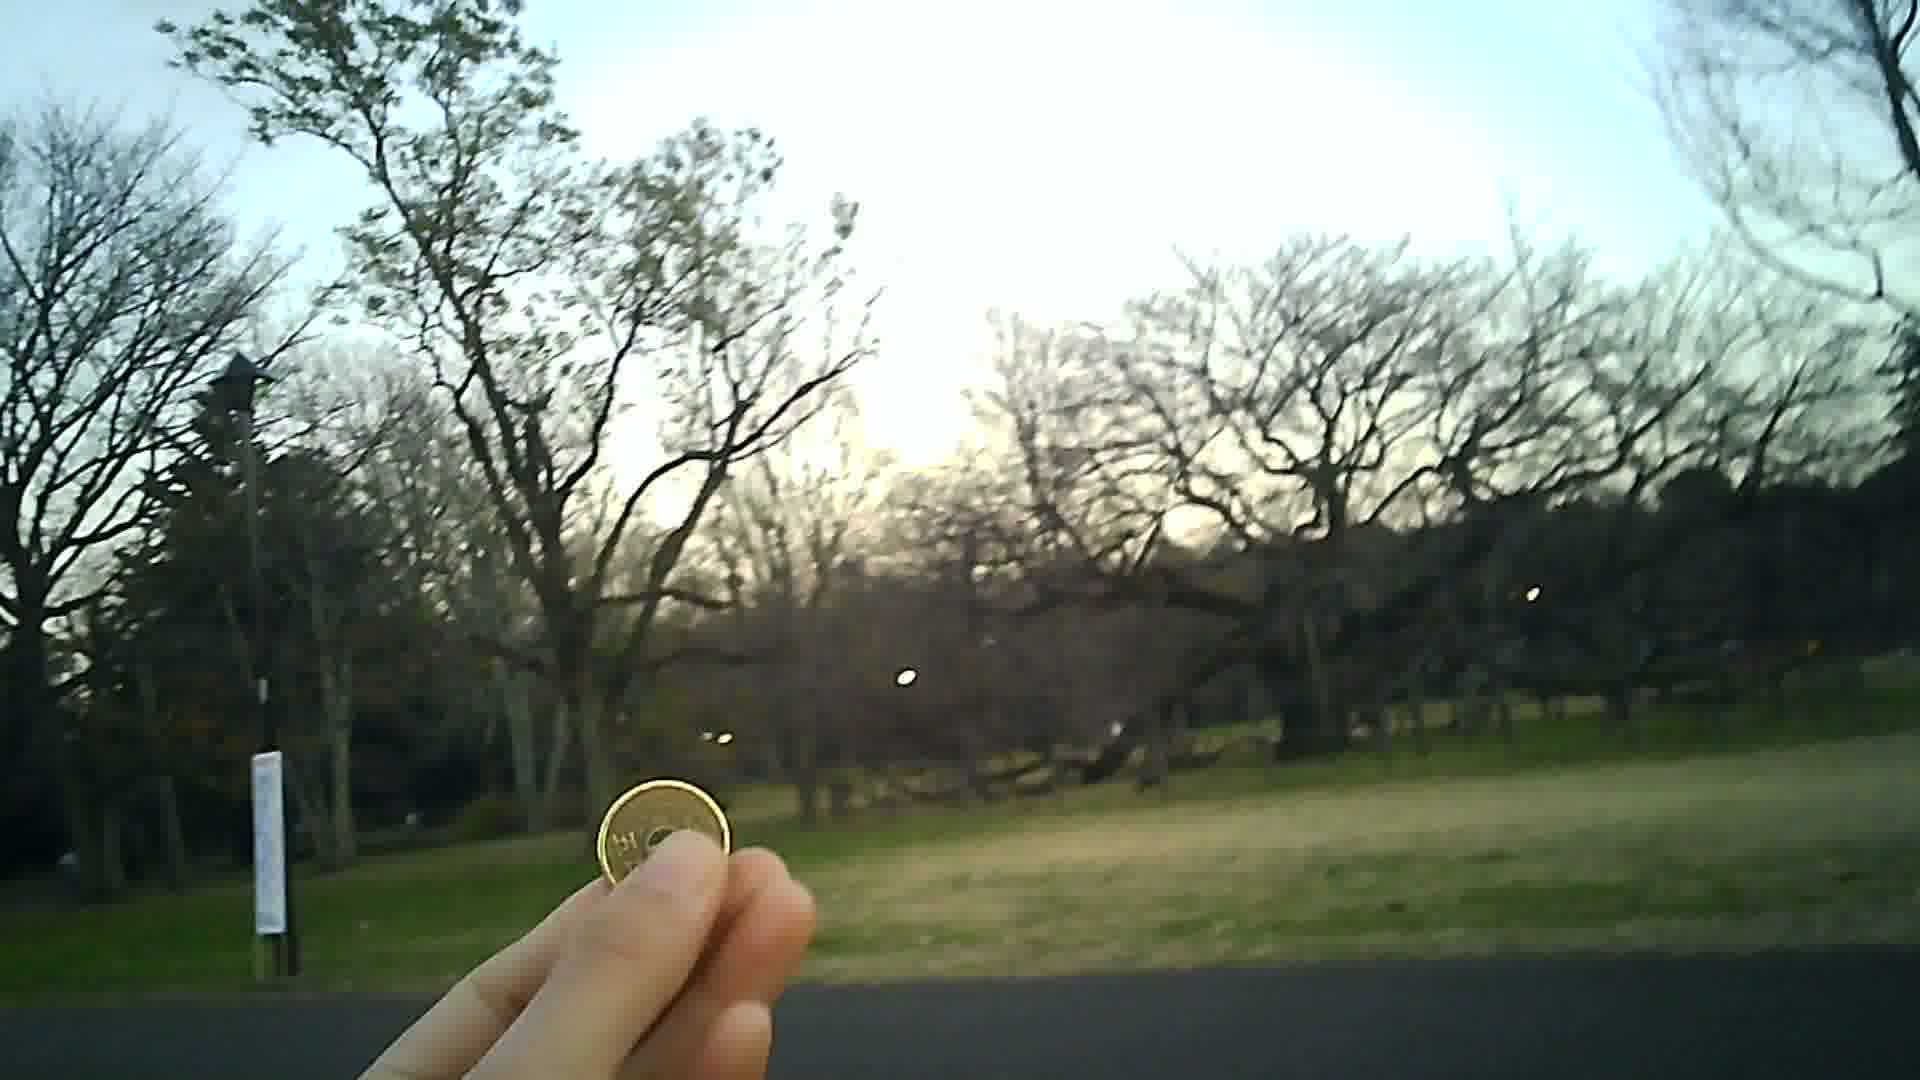5 Yen: (591, 771, 738, 901)
